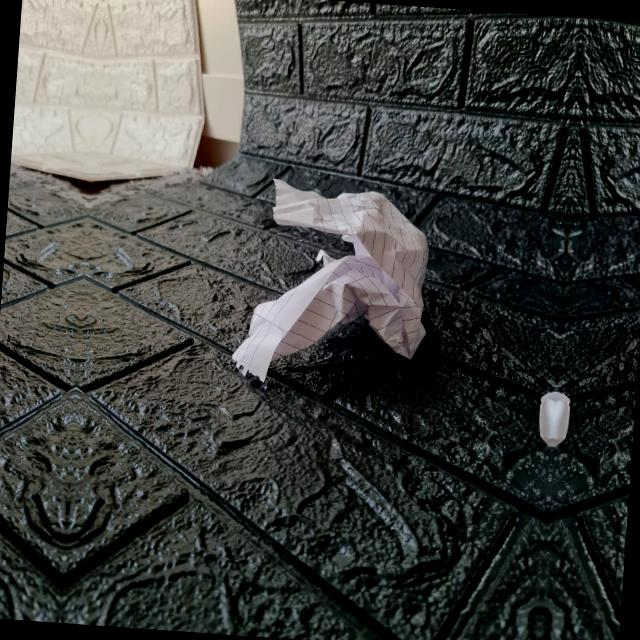paper: (260, 175, 438, 382)
